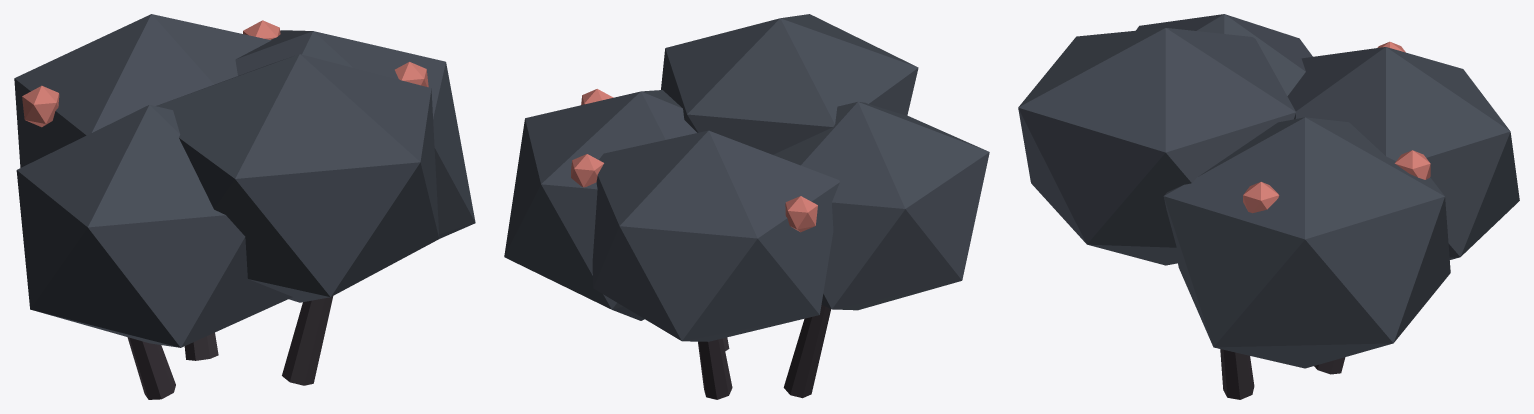
Rendered from arbusto.glb.
3 renders of one model, left to right at view 1: azimuth 30°, elevation 25°; view 2: azimuth 150°, elevation 25°; view 3: azimuth 270°, elevation 25°, orthographic. The views are drawn at different scales.
Visible parts, largest first — view 1: vulcao_arbusto; view 2: vulcao_arbusto; view 3: vulcao_arbusto.
Boxes of the visible parts, bbox=[...] form: vulcao_arbusto: bbox=[14, 14, 475, 399]; vulcao_arbusto: bbox=[504, 14, 989, 399]; vulcao_arbusto: bbox=[1018, 14, 1519, 399].
Size of the model in its own units: 0.6892 by 0.5252 by 0.6839.
